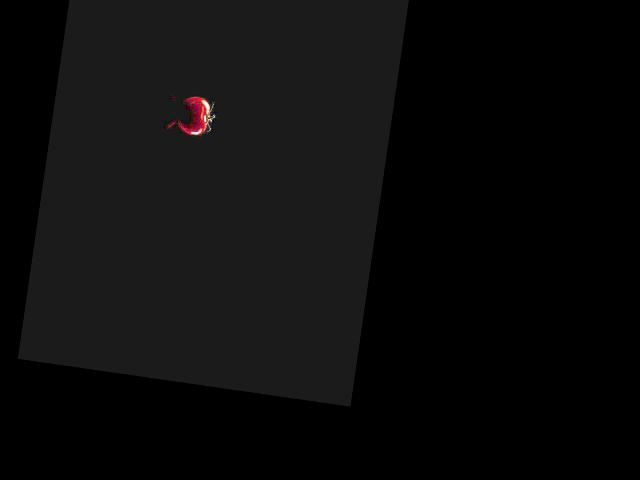tomato: (176, 94, 212, 136)
